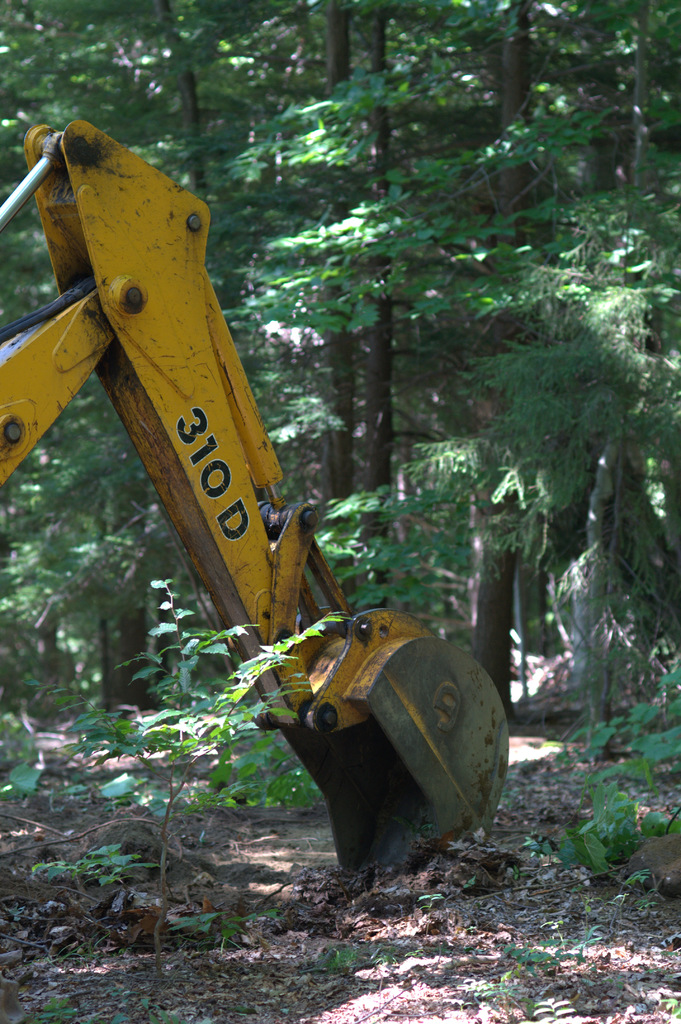Tree: (0, 0, 681, 736)
